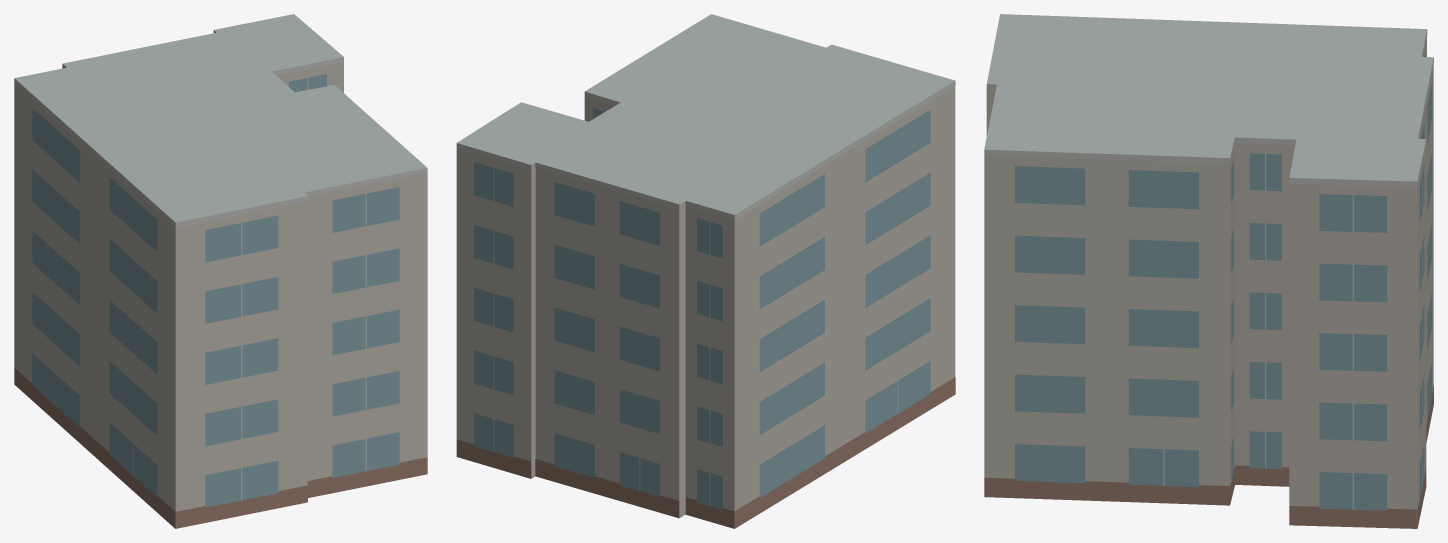
File: survey-upis-32607966.glb
3 views of the same model, side by side, from view 1: azimuth 30°, elevation 25°; view 2: azimuth 150°, elevation 25°; view 3: azimuth 270°, elevation 25° (orthographic). The views are drawn at different scales.
Parts seen in each view (by area): view 1: survey-upis-32607966.tmp; view 2: survey-upis-32607966.tmp; view 3: survey-upis-32607966.tmp.
Part boxes in pixels (x1,y1,x2,y2): survey-upis-32607966.tmp: (14,14,427,528); survey-upis-32607966.tmp: (456,14,955,528); survey-upis-32607966.tmp: (984,14,1433,528).
Size of the model in its own units: 15.01 by 14.5 by 17.02.
